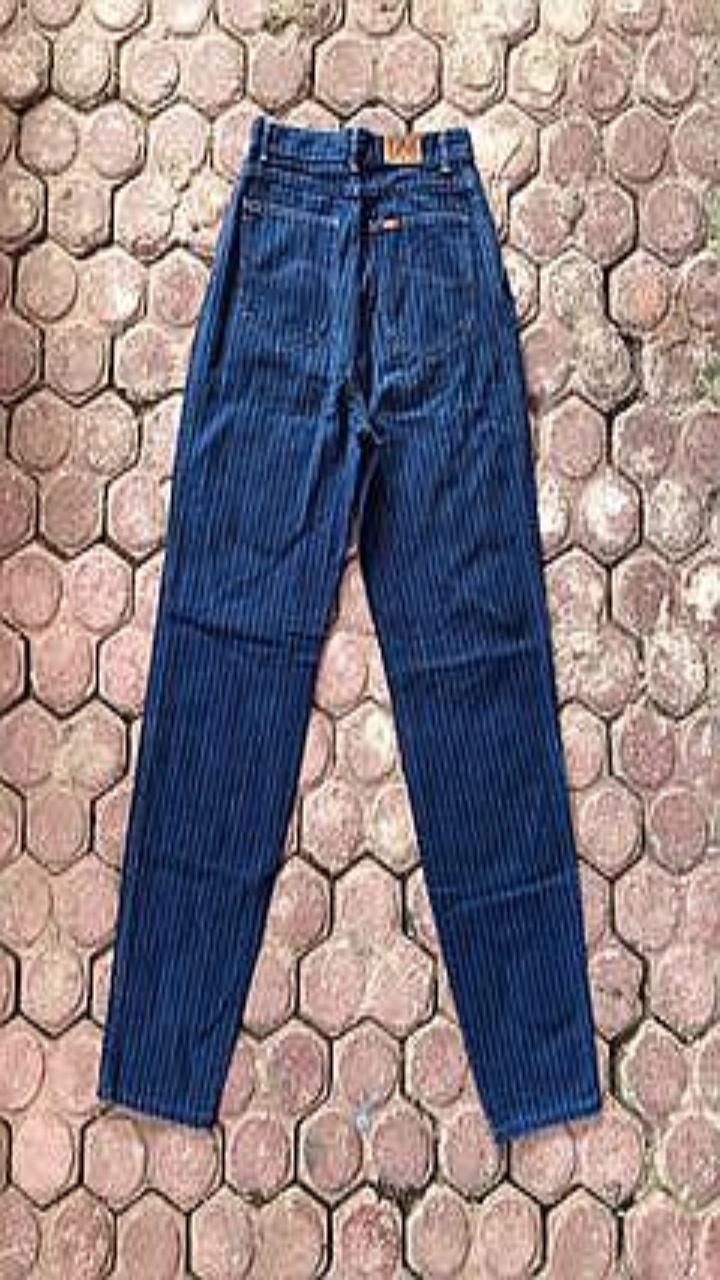Jeans: (98, 114, 600, 1140)
